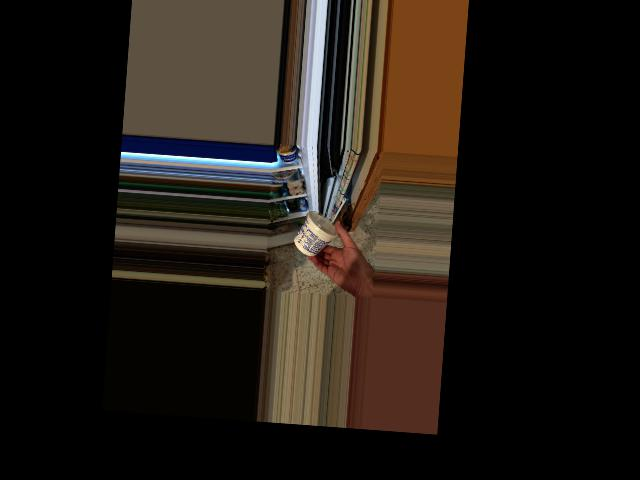cotage: (298, 216, 343, 257)
